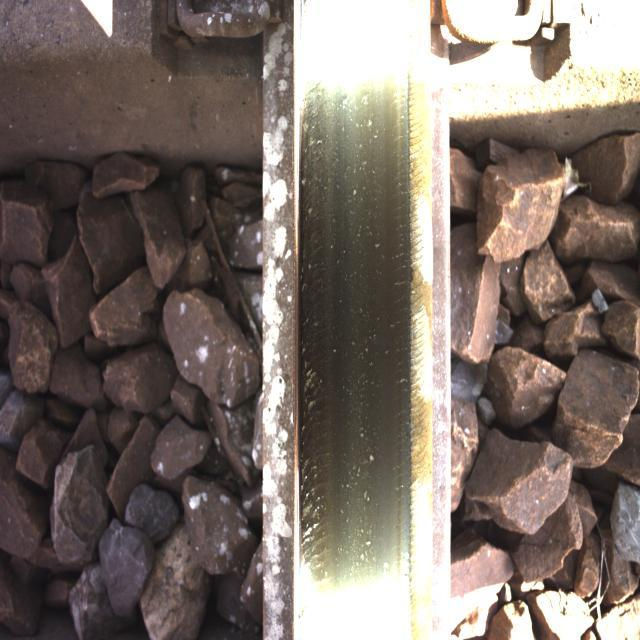normal: (299, 46, 409, 584)
